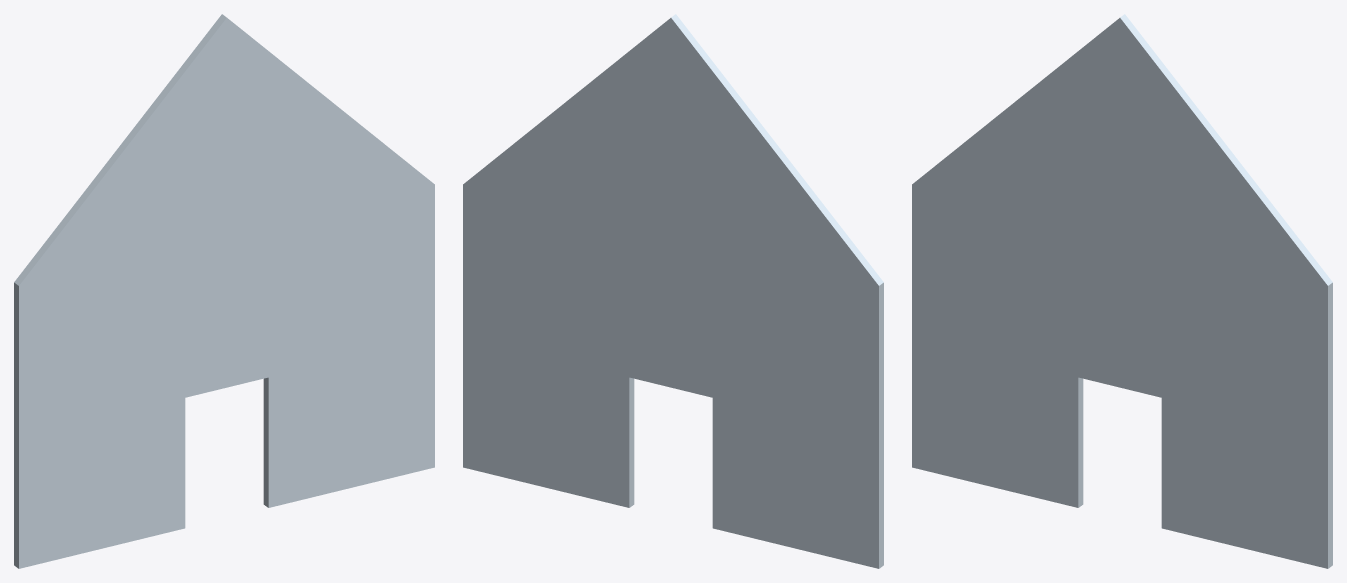
File: Home_3D_Icon_02.fbx
3 views of the same model, side by side, from view 1: azimuth 30°, elevation 25°; view 2: azimuth 150°, elevation 25°; view 3: azimuth 330°, elevation 25° (orthographic).
Parts seen in each view (by area): view 1: Home_3D_Icon_02; view 2: Home_3D_Icon_02; view 3: Home_3D_Icon_02.
Part boxes in pixels (<box>): Home_3D_Icon_02: <box>14,14,434,568</box>; Home_3D_Icon_02: <box>463,14,883,568</box>; Home_3D_Icon_02: <box>912,14,1332,568</box>.
Bounding box in the file's own units: 97.42 × 112 × 2.
